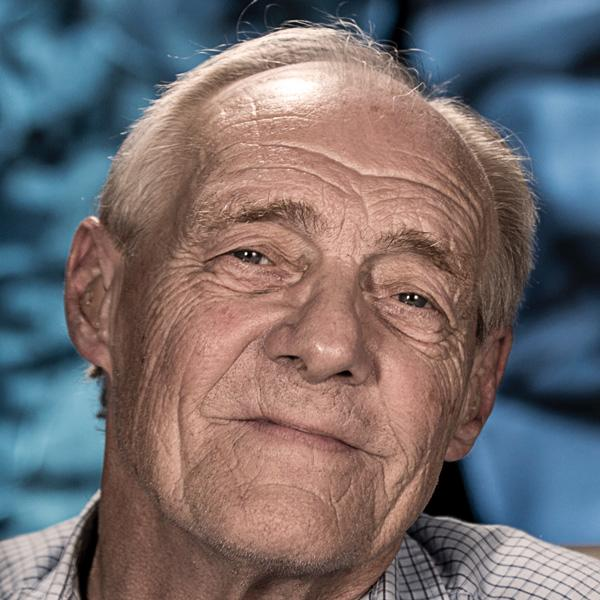Eyes: (207, 231, 298, 285), (368, 268, 450, 325)
